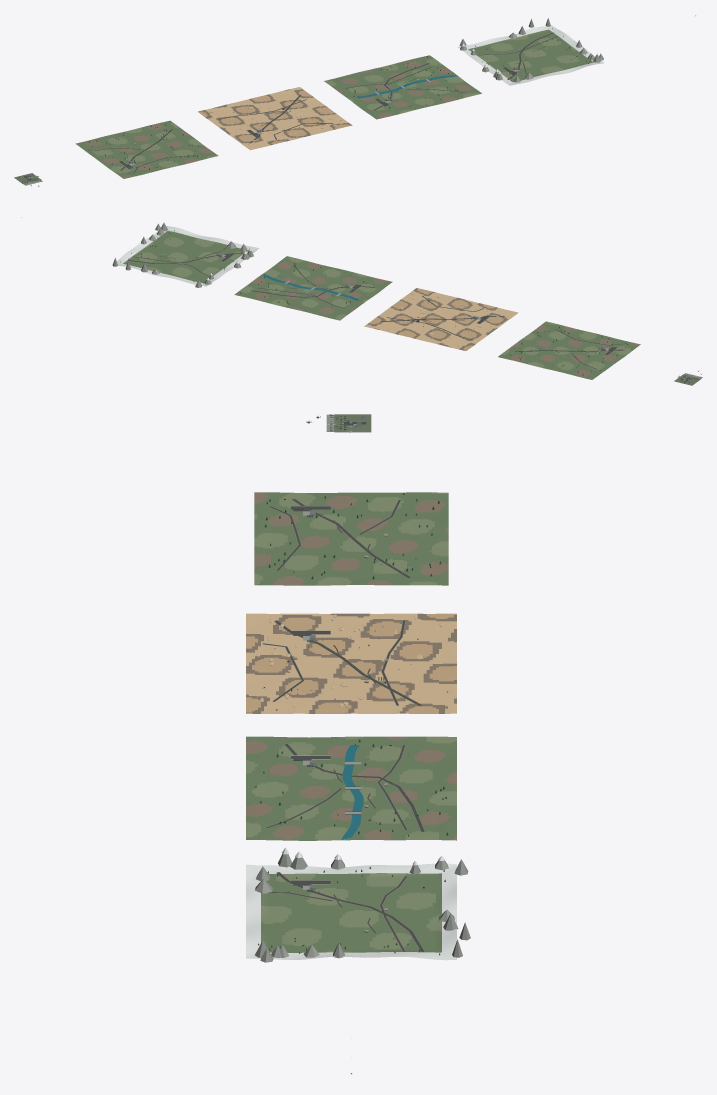
Rendered from combined-arms-r19.glb.
3 views of the same model, one above another, from view 1: azimuth 30°, elevation 25°; view 2: azimuth 150°, elevation 25°; view 3: azimuth 270°, elevation 25° (orthographic). The views are drawn at different scales.
Visible parts, largest first — view 1: ENV_RIVER_CROSSING_TERRAIN, ENV_RED_BASIN_TERRAIN, ENV_ALPINE_PASS_TERRAIN, ENV_PINE_VALLEY_TERRAIN, ENV_ALPINE_PASS_BIOME_SCATTER, ENV_RIVER_CROSSING_ROAD_NETWORK, ENV_RED_BASIN_ROAD_NETWORK; view 2: ENV_RIVER_CROSSING_TERRAIN, ENV_RED_BASIN_TERRAIN, ENV_ALPINE_PASS_TERRAIN, ENV_PINE_VALLEY_TERRAIN, ENV_ALPINE_PASS_BIOME_SCATTER, ENV_RED_BASIN_ROAD_NETWORK, ENV_RIVER_CROSSING_ROAD_NETWORK, ENV_PINE_VALLEY_ROAD_NETWORK, ENV_ALPINE_PASS_ROAD_NETWORK; view 3: ENV_RIVER_CROSSING_TERRAIN, ENV_RED_BASIN_TERRAIN, ENV_ALPINE_PASS_TERRAIN, ENV_PINE_VALLEY_TERRAIN, ENV_ALPINE_PASS_BIOME_SCATTER, ENV_RED_BASIN_ROAD_NETWORK, ENV_RIVER_CROSSING_ROAD_NETWORK.
Boxes of the visible parts, x1=… form: ENV_RIVER_CROSSING_TERRAIN: x1=324, y1=55, x2=481, y2=119; ENV_RED_BASIN_TERRAIN: x1=198, y1=87, x2=352, y2=150; ENV_ALPINE_PASS_TERRAIN: x1=457, y1=25, x2=604, y2=85; ENV_PINE_VALLEY_TERRAIN: x1=75, y1=120, x2=218, y2=178; ENV_ALPINE_PASS_BIOME_SCATTER: x1=459, y1=18, x2=603, y2=82; ENV_RIVER_CROSSING_ROAD_NETWORK: x1=345, y1=63, x2=464, y2=110; ENV_RED_BASIN_ROAD_NETWORK: x1=218, y1=95, x2=333, y2=143; ENV_RIVER_CROSSING_TERRAIN: x1=234, y1=256, x2=392, y2=320; ENV_RED_BASIN_TERRAIN: x1=364, y1=288, x2=518, y2=350; ENV_ALPINE_PASS_TERRAIN: x1=112, y1=226, x2=259, y2=286; ENV_PINE_VALLEY_TERRAIN: x1=498, y1=321, x2=640, y2=379; ENV_ALPINE_PASS_BIOME_SCATTER: x1=112, y1=222, x2=253, y2=287; ENV_RED_BASIN_ROAD_NETWORK: x1=381, y1=295, x2=504, y2=339; ENV_RIVER_CROSSING_ROAD_NETWORK: x1=251, y1=263, x2=375, y2=308; ENV_PINE_VALLEY_ROAD_NETWORK: x1=515, y1=329, x2=624, y2=369; ENV_ALPINE_PASS_ROAD_NETWORK: x1=127, y1=247, x2=243, y2=276; ENV_RIVER_CROSSING_TERRAIN: x1=246, y1=736, x2=456, y2=840; ENV_RED_BASIN_TERRAIN: x1=246, y1=613, x2=456, y2=713; ENV_ALPINE_PASS_TERRAIN: x1=246, y1=863, x2=456, y2=960; ENV_PINE_VALLEY_TERRAIN: x1=254, y1=492, x2=448, y2=585; ENV_ALPINE_PASS_BIOME_SCATTER: x1=255, y1=847, x2=470, y2=962; ENV_RED_BASIN_ROAD_NETWORK: x1=263, y1=620, x2=422, y2=705; ENV_RIVER_CROSSING_ROAD_NETWORK: x1=266, y1=744, x2=424, y2=831.
Size of the model in its own units: 3740 by 53.66 by 533.
